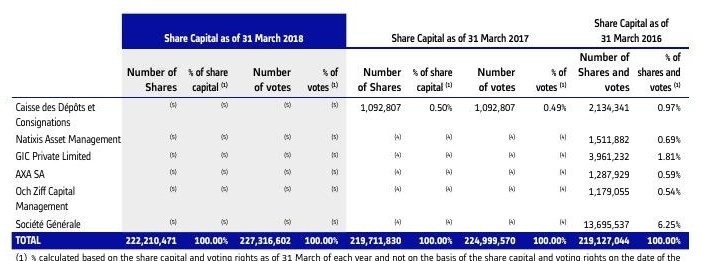table: (0, 0, 702, 261)
